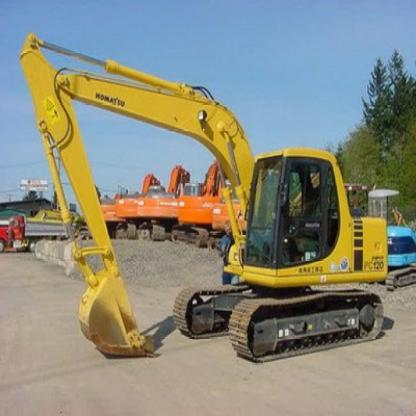excavator: (12, 22, 388, 382)
